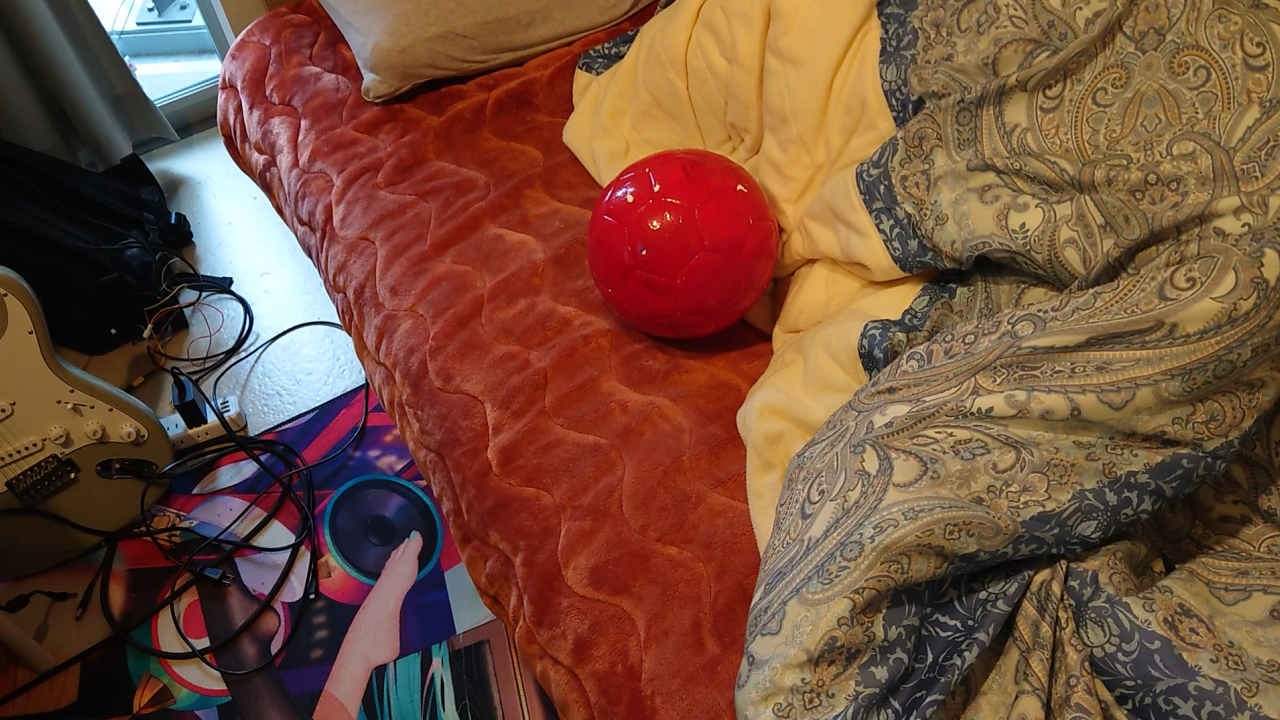red: (588, 153, 778, 340)
